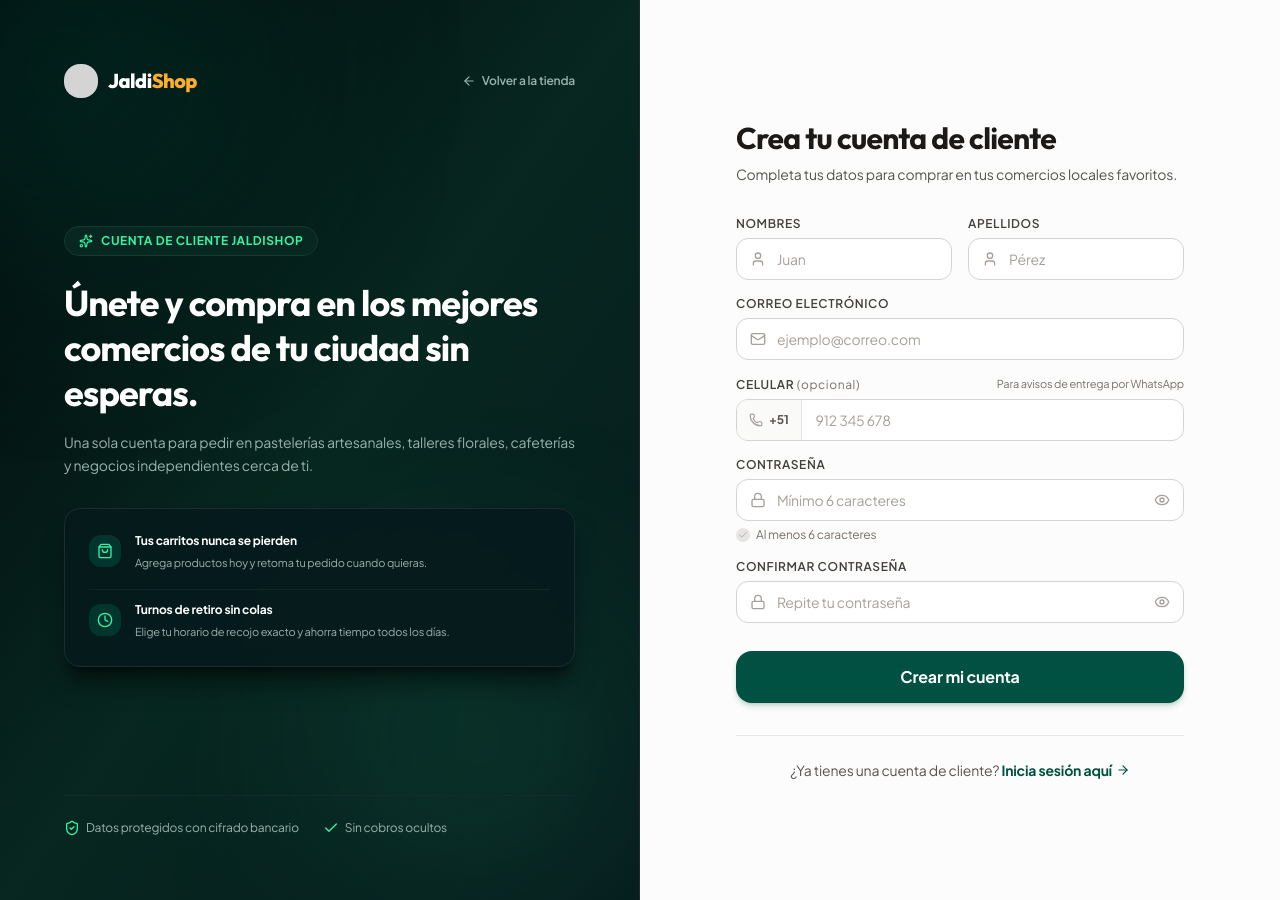
Test: RegisterForm Component › validates Peruvian phone number when provided
The image size is (1280, 900).
Step 1. Type "Carlos" into the field labelled "Nombres" → (844, 259), box [736,238,952,280]
Step 2. Type "Rosas" into the field labelled "Apellidos" → (1076, 259), box [968,238,1184,280]
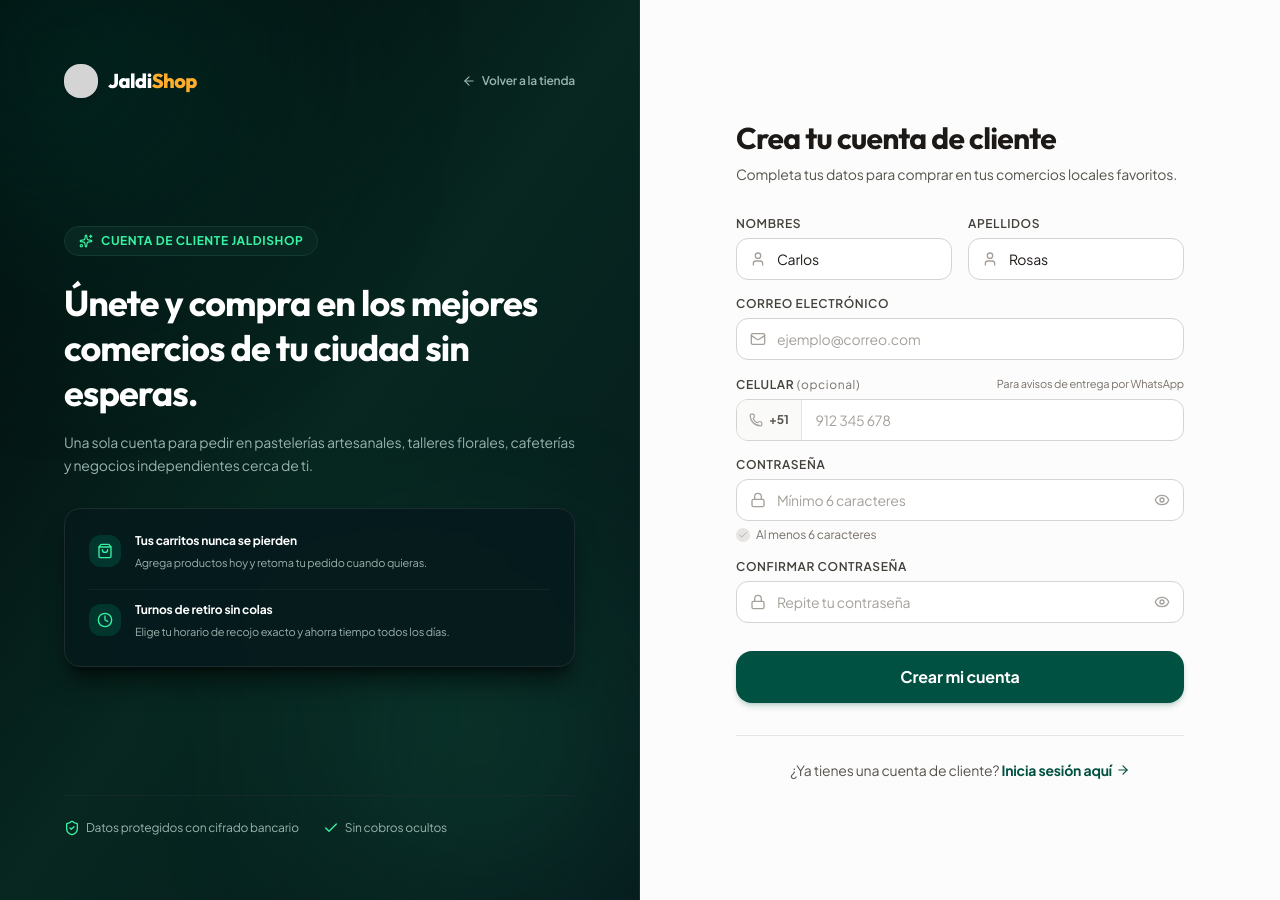
Step 3. Type "carlos@example.com" into the field labelled "Correo electrónico" → (960, 339), box [736,318,1184,360]
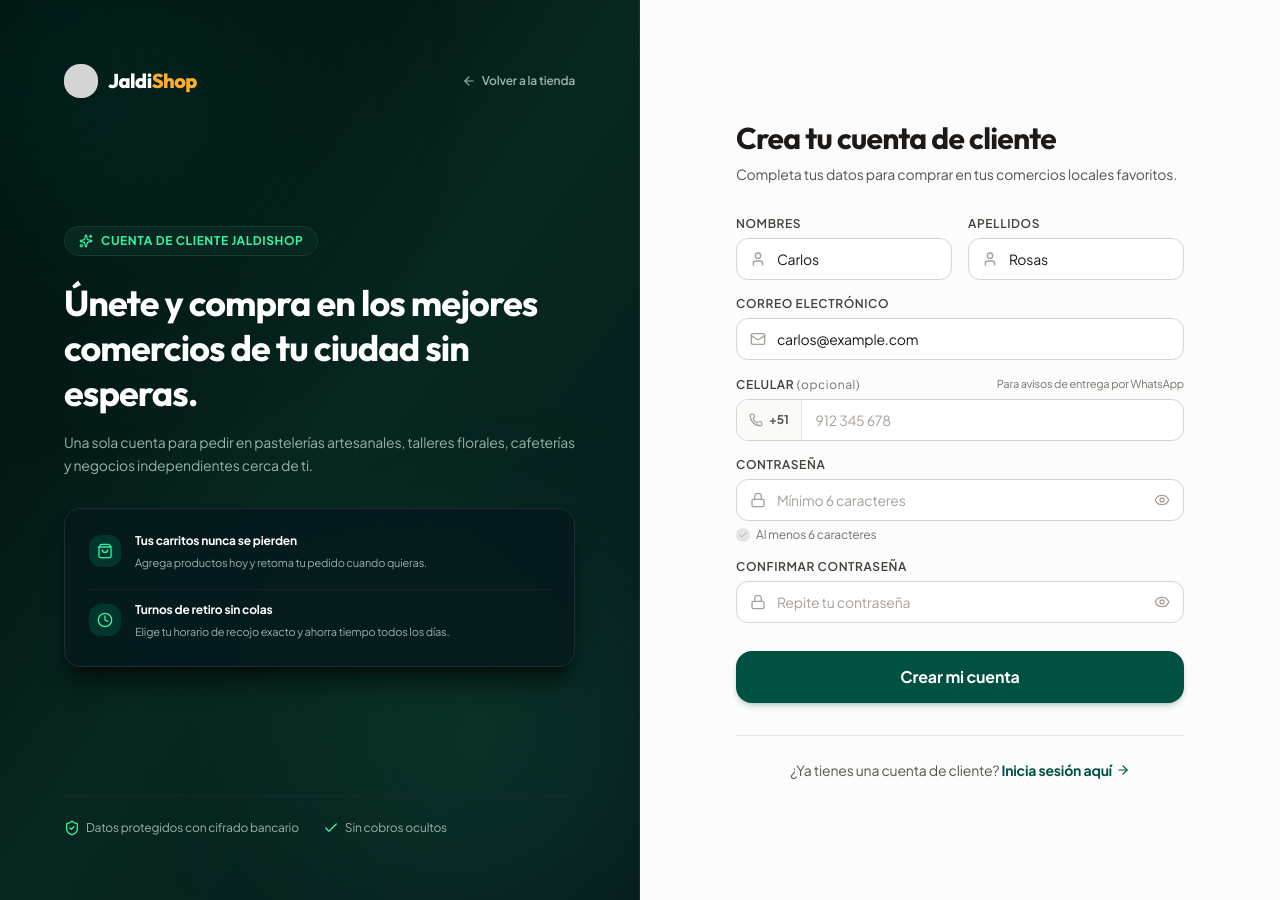
Step 4. Type "12345678" into the field labelled "Celular (opcional)" → (992, 420), box [802,400,1183,440]
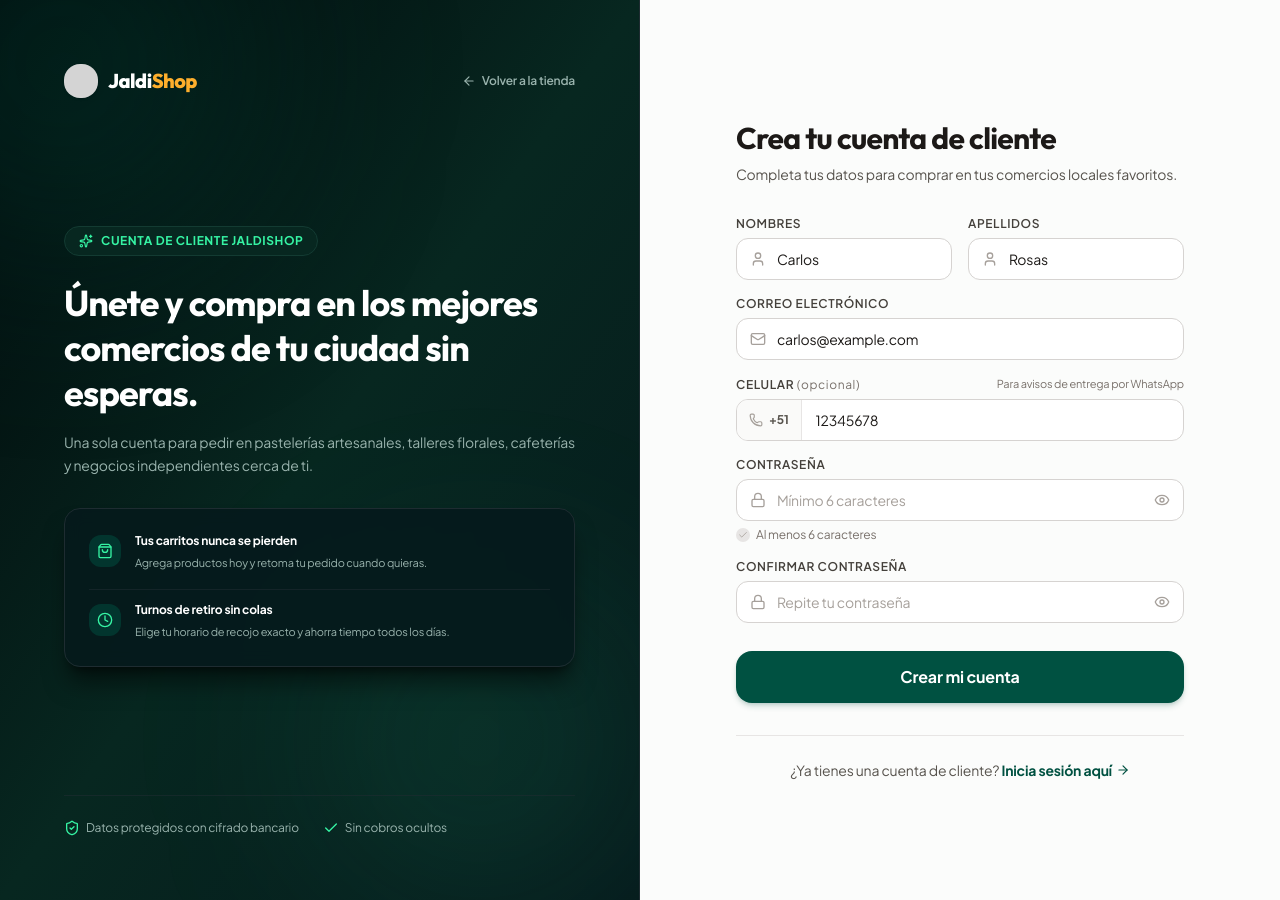
Step 5. Type "password123" into the password field labelled "Contraseña" → (960, 500), box [736,479,1184,521]
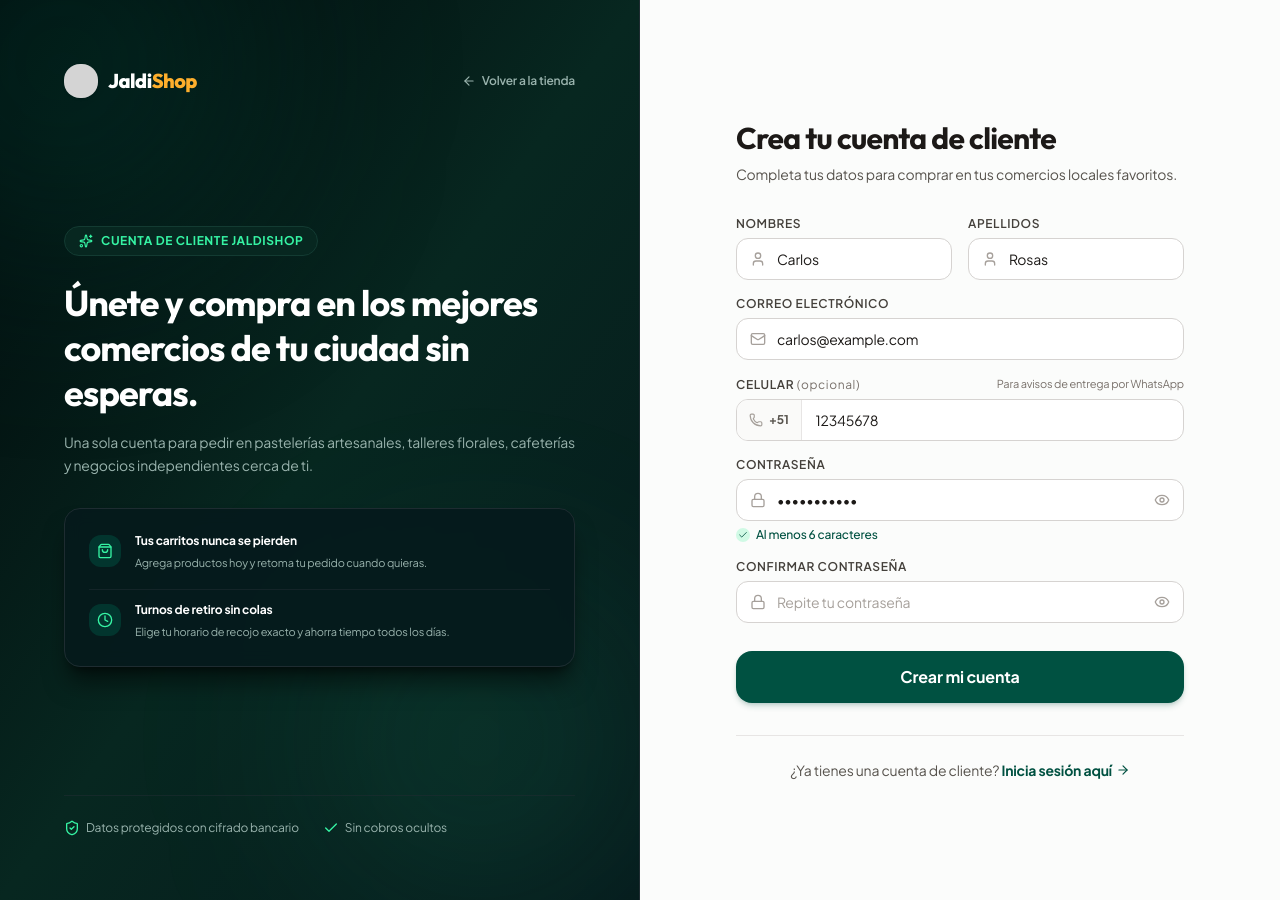
Step 6. Type "password123" into the password field labelled "Confirmar contraseña" → (960, 602), box [736,581,1184,623]
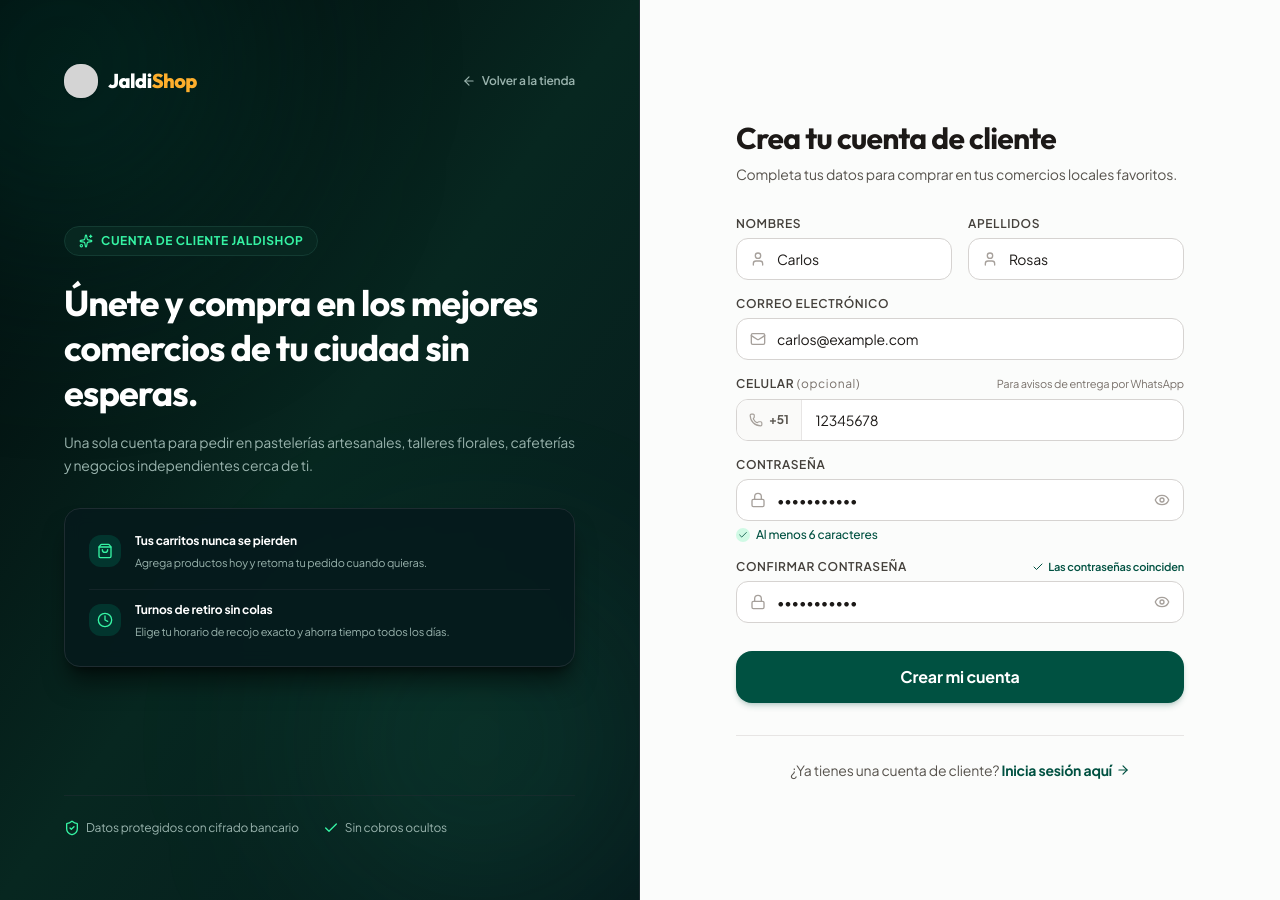
Step 7. Click the button "Crear mi cuenta" → (960, 677), box [736,651,1184,703]
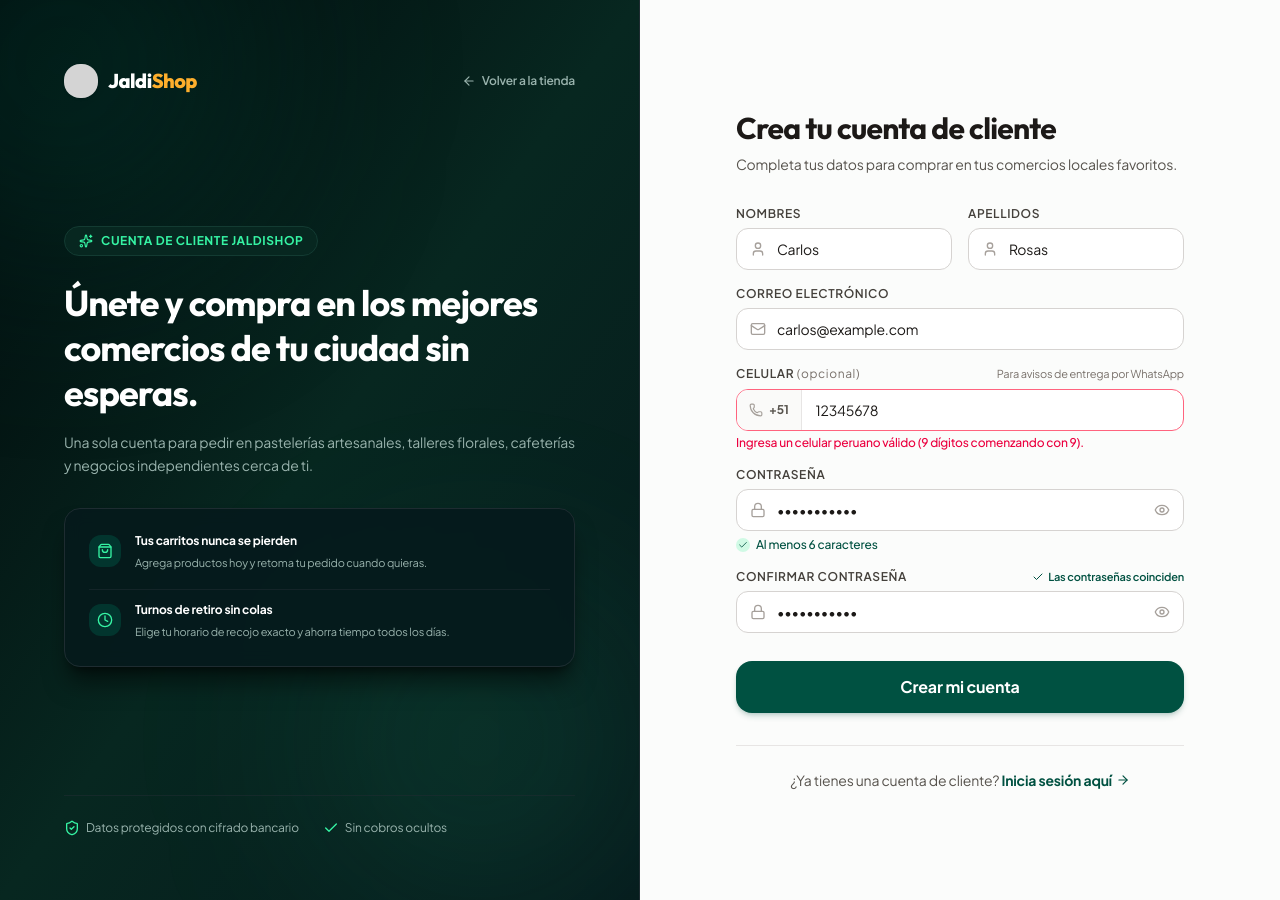
Now the text "Ingresa un celular peruano válido (9 dígitos comenzando con 9)." is shown, box [736,434,1084,450]
